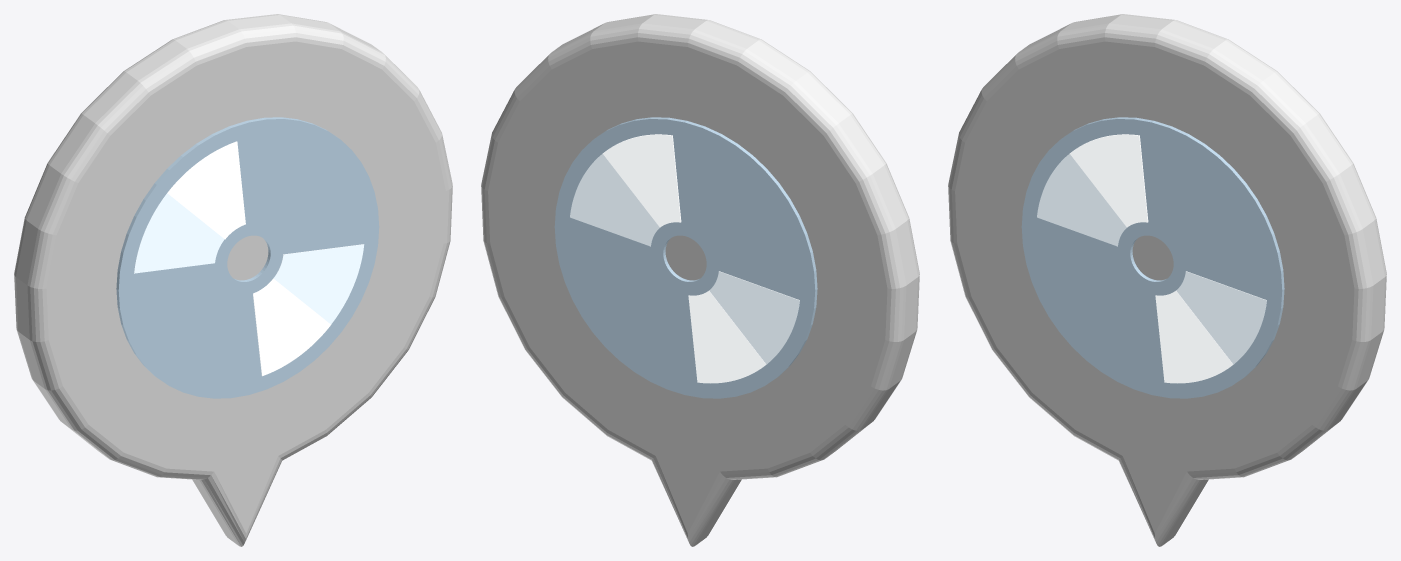
3 views of the same model, side by side, from view 1: azimuth 30°, elevation 25°; view 2: azimuth 150°, elevation 25°; view 3: azimuth 330°, elevation 25° (orthographic).
Parts seen in each view (by area): view 1: EmotionBubble; view 2: EmotionBubble; view 3: EmotionBubble.
Part boxes in pixels (box(x1,y1,x2,y2)): EmotionBubble: box(14, 14, 452, 546); EmotionBubble: box(481, 14, 919, 546); EmotionBubble: box(948, 14, 1386, 546).
Bounding box in the file's own units: 5.29 × 6.16 × 0.694.
